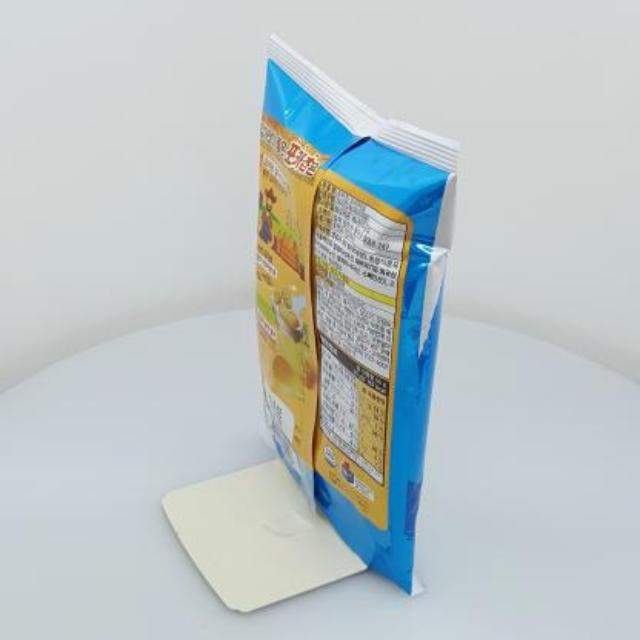snack_bag: (228, 17, 486, 600)
